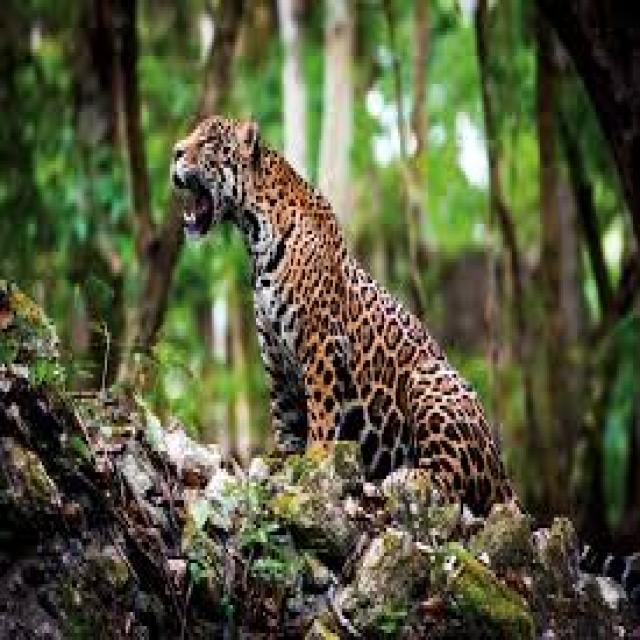Jaguar: (170, 115, 640, 591)
